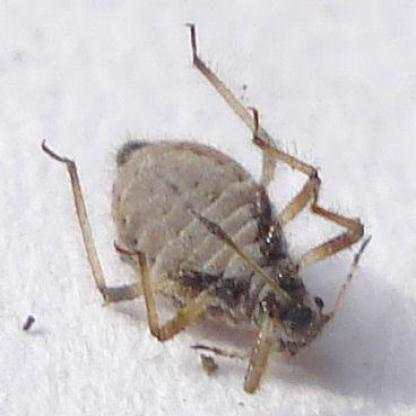aphid: (28, 23, 375, 386)
